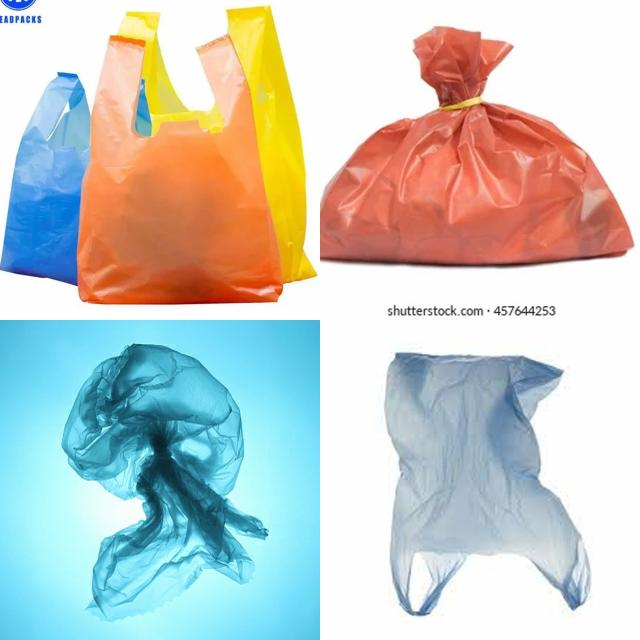Single-layer Plastic: (321, 26, 634, 264), (62, 344, 268, 619), (78, 35, 282, 303), (385, 352, 590, 615), (228, 6, 316, 282), (0, 72, 90, 284), (118, 11, 224, 134)
